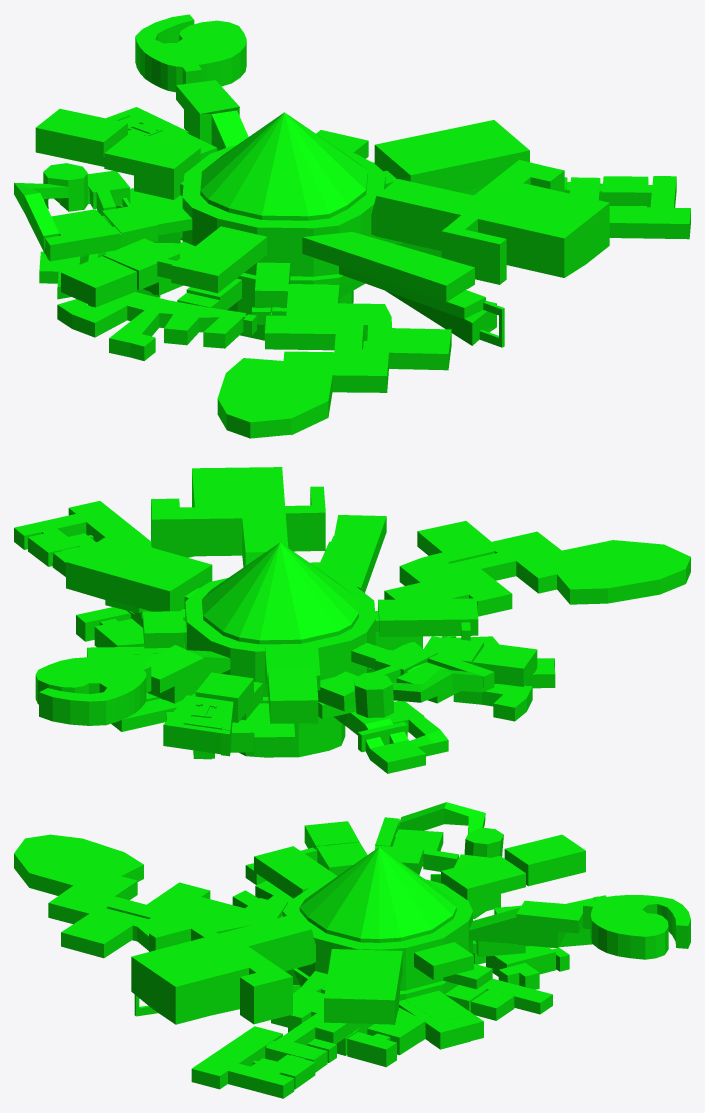
File: level3.fbx
The picture shows the model from 3 angles, top to bottom: view 1: azimuth 30°, elevation 25°; view 2: azimuth 150°, elevation 25°; view 3: azimuth 270°, elevation 25°; orthographic projection. The views are drawn at different scales.
Parts seen in each view (by area): view 1: Plane; view 2: Plane; view 3: Plane.
Boxes of the visible parts, x1,y1,x2,y2 form: Plane: (14, 14, 690, 438); Plane: (14, 467, 690, 773); Plane: (14, 802, 690, 1098).
Size of the model in its own units: 17664 by 5807 by 20228.
